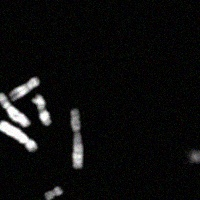chromosome: (0, 120, 37, 153), (0, 93, 31, 127), (70, 109, 83, 169), (10, 77, 40, 102), (33, 94, 50, 125), (44, 185, 63, 200), (191, 149, 200, 165)
